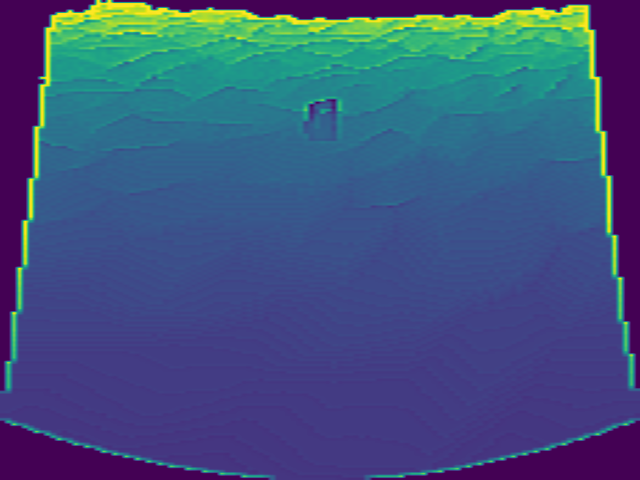car_0198: (305, 98, 339, 144)
